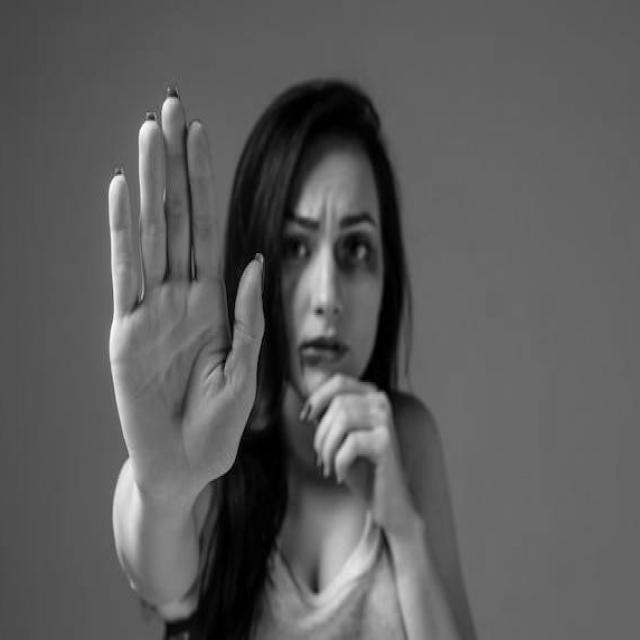stop: (102, 77, 270, 510)
